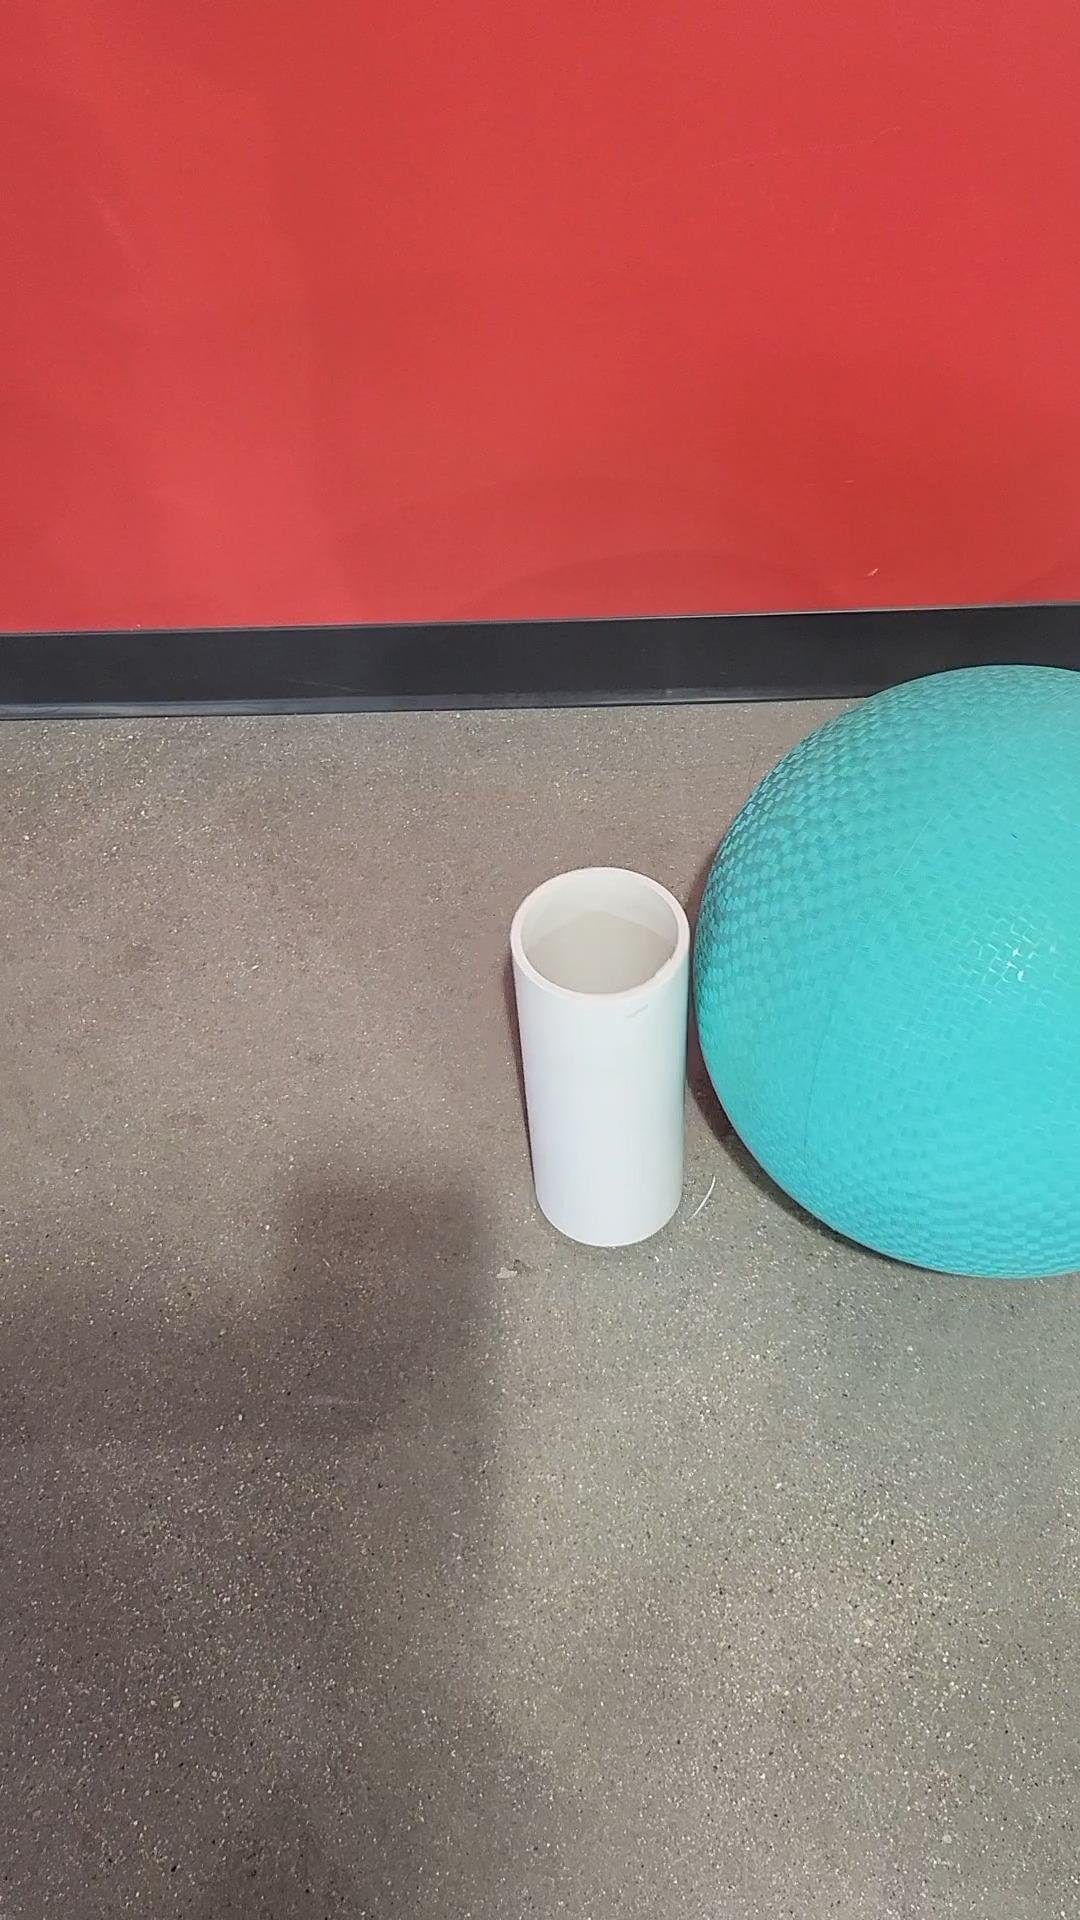algae: (695, 662, 1079, 1284)
coral: (509, 865, 692, 1247)
